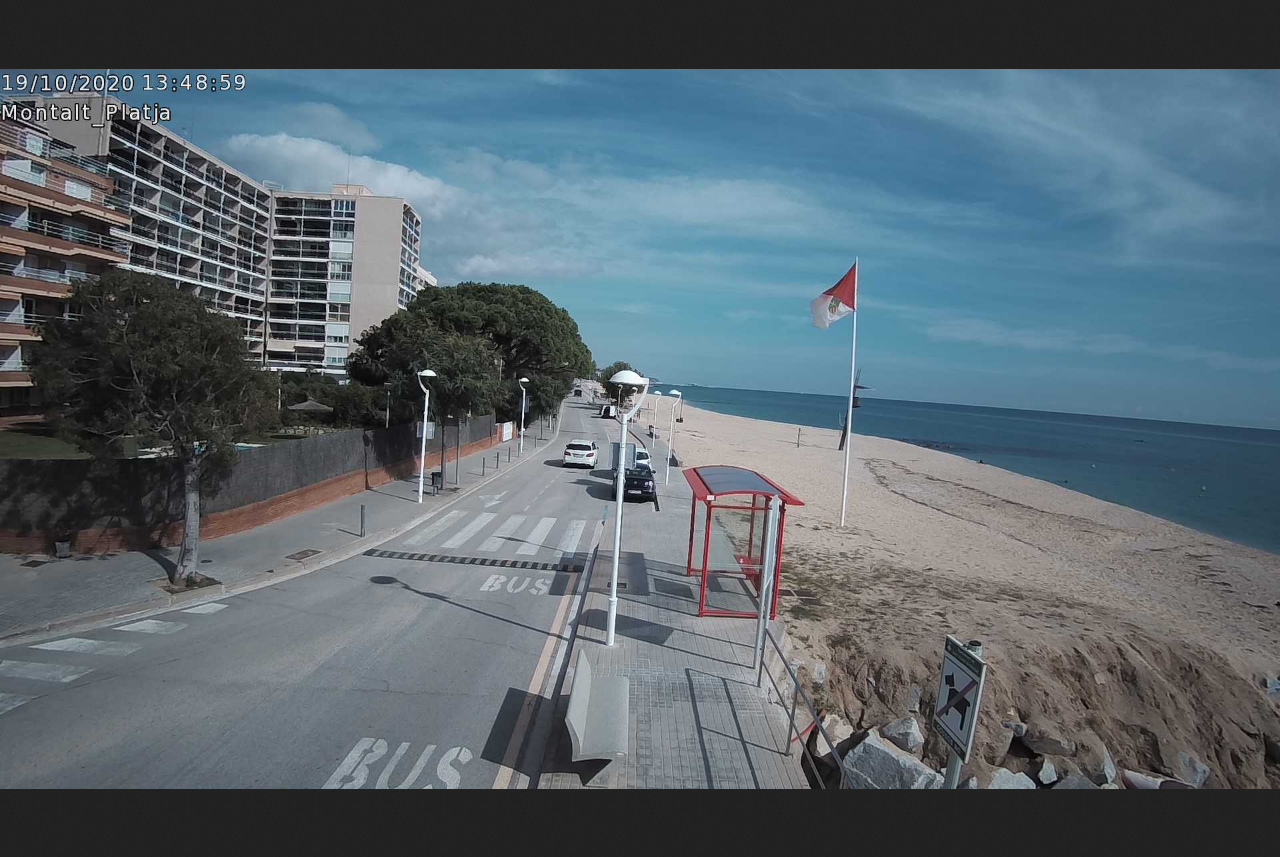maybe: (811, 264, 854, 333)
